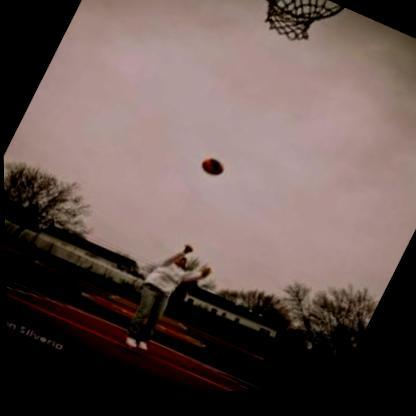basketball: (193, 149, 231, 190)
